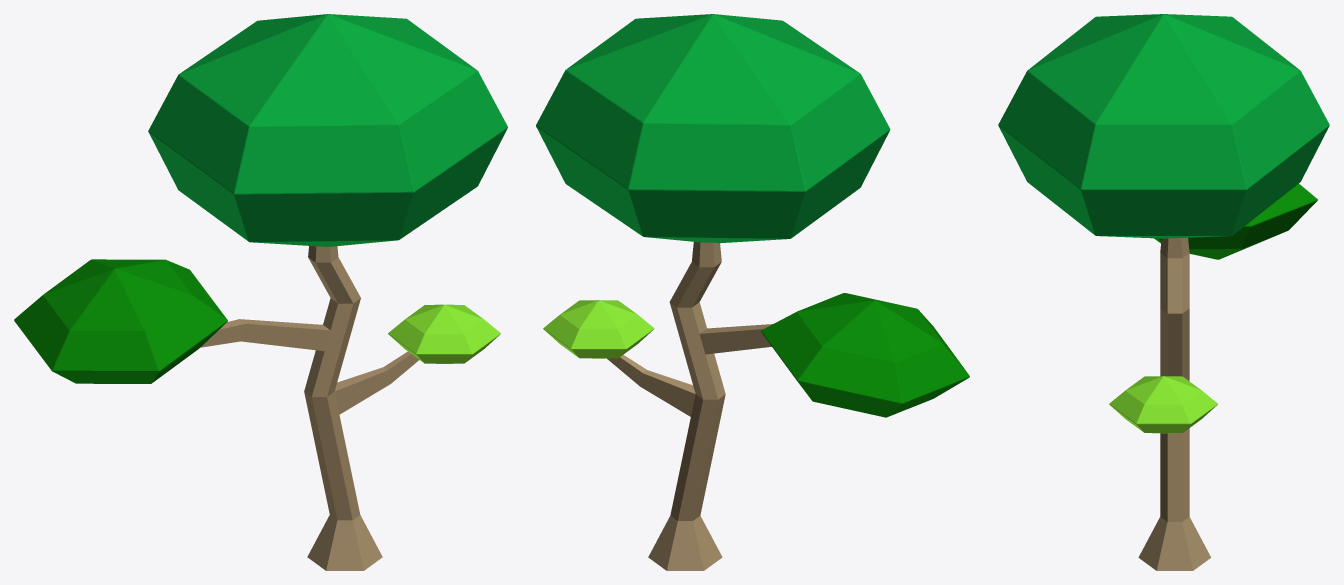
Rendered from Arbre_Plaine_rond.fbx.
3 renders of one model, left to right at view 1: azimuth 30°, elevation 25°; view 2: azimuth 150°, elevation 25°; view 3: azimuth 270°, elevation 25°, orthographic. The views are drawn at different scales.
Visible parts, largest first — view 1: Sphere.001, Sphere.002, Tron_arbre_plaine_rond, Sphere; view 2: Sphere.001, Sphere.002, Tron_arbre_plaine_rond, Sphere; view 3: Sphere.001, Tron_arbre_plaine_rond, Sphere, Sphere.002.
Part boxes in pixels (left/top/right/bottom): Sphere.001: left=148, top=14, right=507, bottom=246; Sphere.002: left=14, top=259, right=227, bottom=383; Tron_arbre_plaine_rond: left=200, top=246, right=418, bottom=570; Sphere: left=388, top=304, right=500, bottom=363; Sphere.001: left=536, top=14, right=890, bottom=243; Sphere.002: left=761, top=293, right=969, bottom=417; Tron_arbre_plaine_rond: left=607, top=242, right=772, bottom=570; Sphere: left=543, top=300, right=654, bottom=358; Sphere.001: left=998, top=14, right=1329, bottom=238; Tron_arbre_plaine_rond: left=1138, top=237, right=1210, bottom=570; Sphere: left=1109, top=376, right=1217, bottom=433; Sphere.002: left=1154, top=183, right=1317, bottom=259.
Bounding box in the file's own units: 1304 × 1612 × 909.
